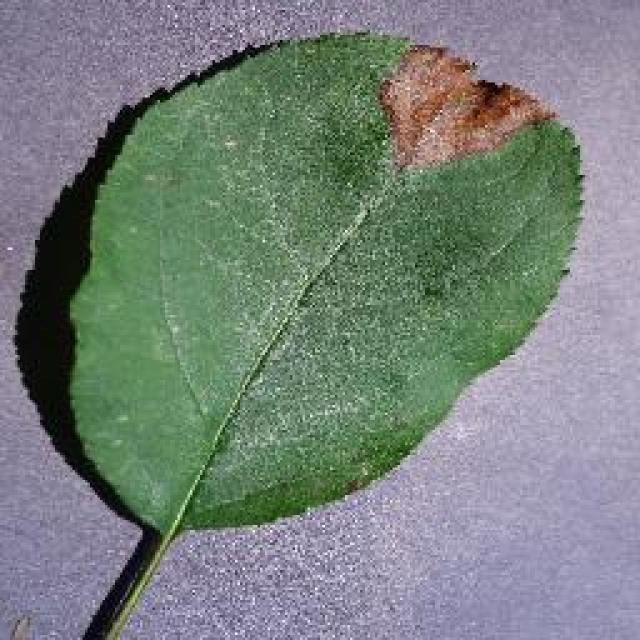black_rot: (376, 28, 566, 186)
